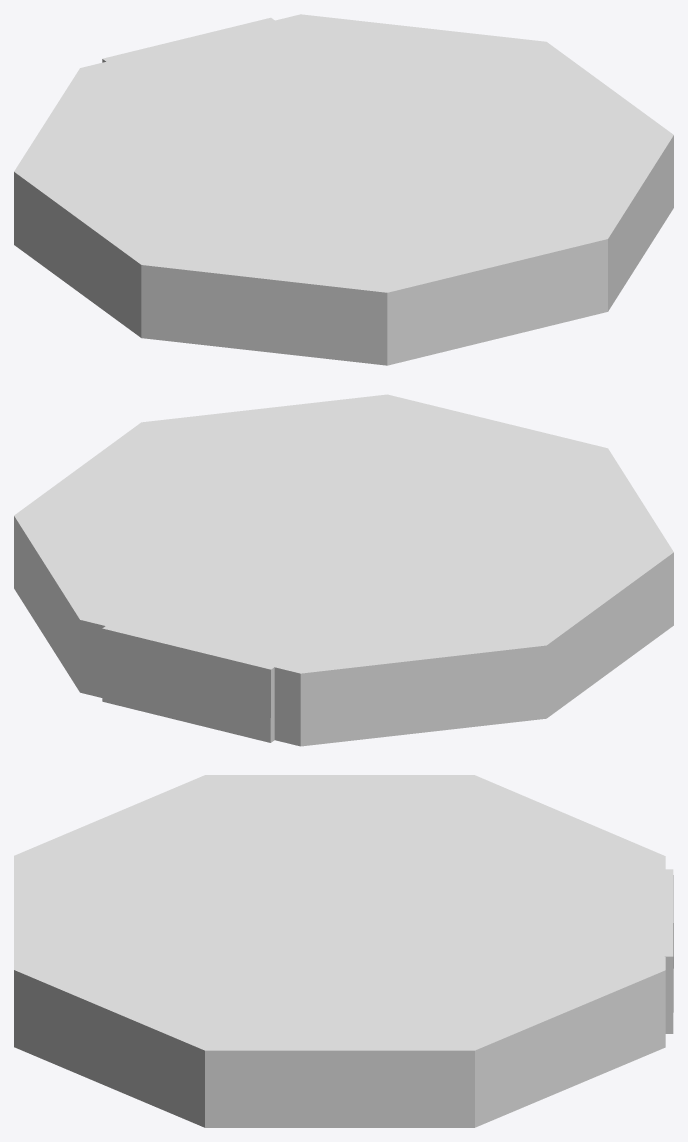
File: Itr_Trashcan3_Cap_01.FBX
3 renders of one model, top to bottom at view 1: azimuth 30°, elevation 25°; view 2: azimuth 150°, elevation 25°; view 3: azimuth 270°, elevation 25°, orthographic. The views are drawn at different scales.
Parts seen in each view (by area): view 1: Itr_Trashcan3_Cap_01; view 2: Itr_Trashcan3_Cap_01; view 3: Itr_Trashcan3_Cap_01.
Part boxes in pixels (x1=…): Itr_Trashcan3_Cap_01: x1=14, y1=14, x2=673, y2=365; Itr_Trashcan3_Cap_01: x1=14, y1=394, x2=673, y2=746; Itr_Trashcan3_Cap_01: x1=14, y1=775, x2=673, y2=1127.
Bounding box in the file's own units: 13.72 × 1.8 × 13.89.
